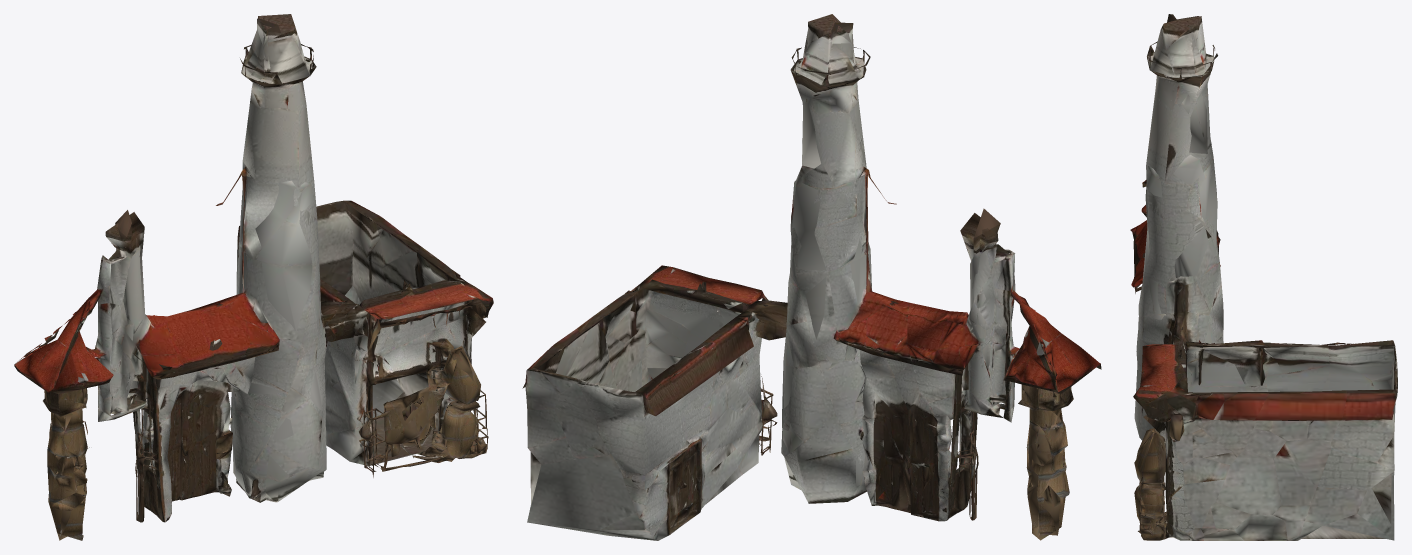
File: rumbrennerei.glb
The picture shows the model from 3 angles, left to right: view 1: azimuth 30°, elevation 25°; view 2: azimuth 150°, elevation 25°; view 3: azimuth 270°, elevation 25°; orthographic projection. The views are drawn at different scales.
Size of the model in its own units: 1.89 by 1.85 by 1.03.
1 material, 1 textured.
